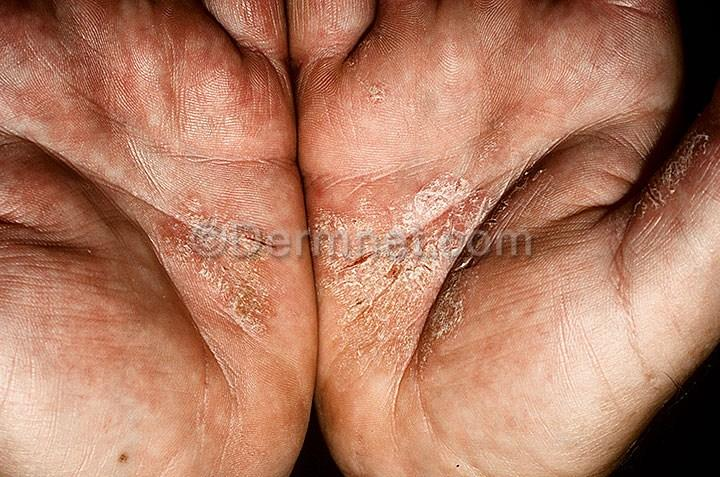Eczema: (212, 117, 301, 207), (129, 38, 207, 110), (18, 303, 89, 382), (116, 261, 188, 336), (319, 219, 382, 301), (110, 128, 179, 199), (58, 250, 119, 330), (174, 178, 230, 262), (173, 120, 233, 197), (87, 320, 159, 384), (0, 4, 60, 77), (186, 259, 254, 320), (9, 86, 61, 163), (404, 52, 478, 106), (354, 21, 421, 80), (319, 298, 388, 355), (420, 105, 476, 175), (8, 168, 71, 230), (291, 102, 356, 160), (210, 71, 295, 115), (222, 201, 285, 259), (52, 125, 110, 188), (556, 145, 609, 213), (530, 27, 587, 90), (481, 42, 535, 108), (540, 83, 597, 145), (474, 104, 533, 162), (297, 165, 366, 212), (0, 235, 54, 295), (353, 63, 406, 124), (70, 200, 134, 249), (431, 176, 481, 236), (380, 227, 428, 289), (300, 44, 348, 105), (388, 295, 449, 341), (386, 340, 442, 390), (205, 30, 273, 71), (87, 20, 134, 76), (415, 10, 476, 52), (292, 0, 356, 40), (506, 156, 552, 211), (380, 183, 438, 226), (90, 80, 141, 128), (585, 42, 624, 100), (139, 217, 186, 262), (636, 32, 678, 82), (628, 193, 670, 242), (367, 141, 421, 179), (57, 66, 93, 122), (485, 191, 518, 251), (255, 254, 280, 333), (607, 116, 640, 175), (423, 229, 461, 278), (477, 0, 528, 33), (677, 133, 712, 180), (451, 279, 486, 324), (631, 89, 658, 136), (657, 170, 689, 208), (229, 318, 256, 348)
